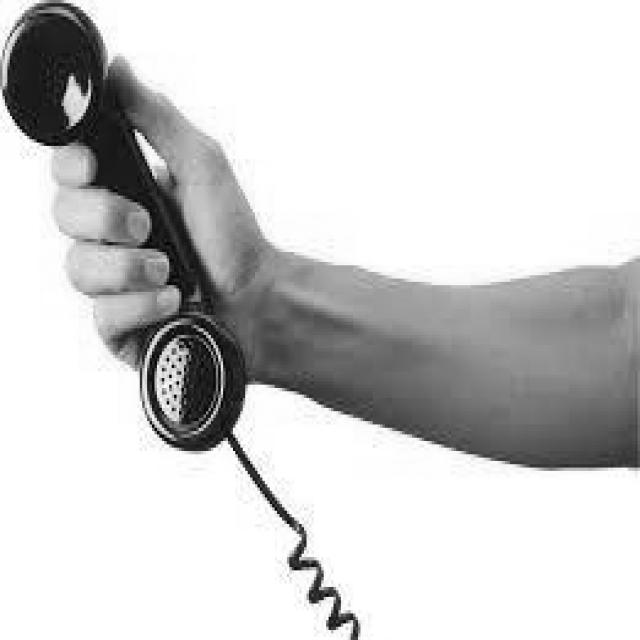No gun_phone: (3, 5, 244, 451)
